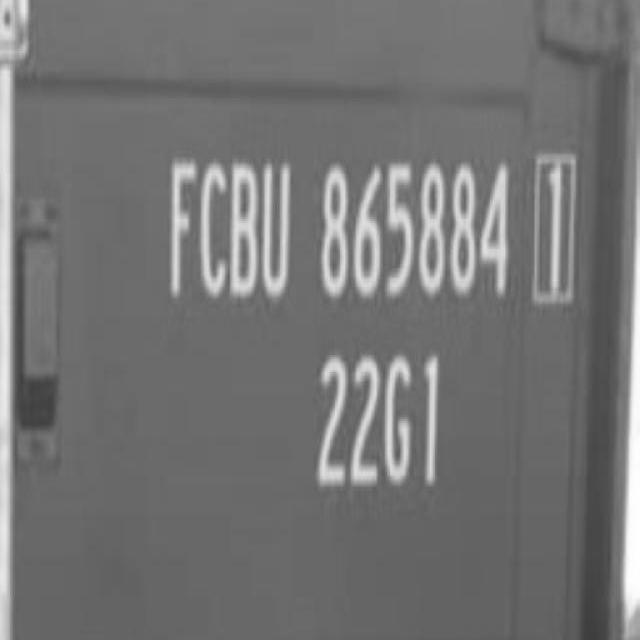dv: (527, 149, 581, 309)
owner: (168, 144, 294, 302)
serial: (316, 150, 512, 311)
size: (312, 345, 442, 502)
